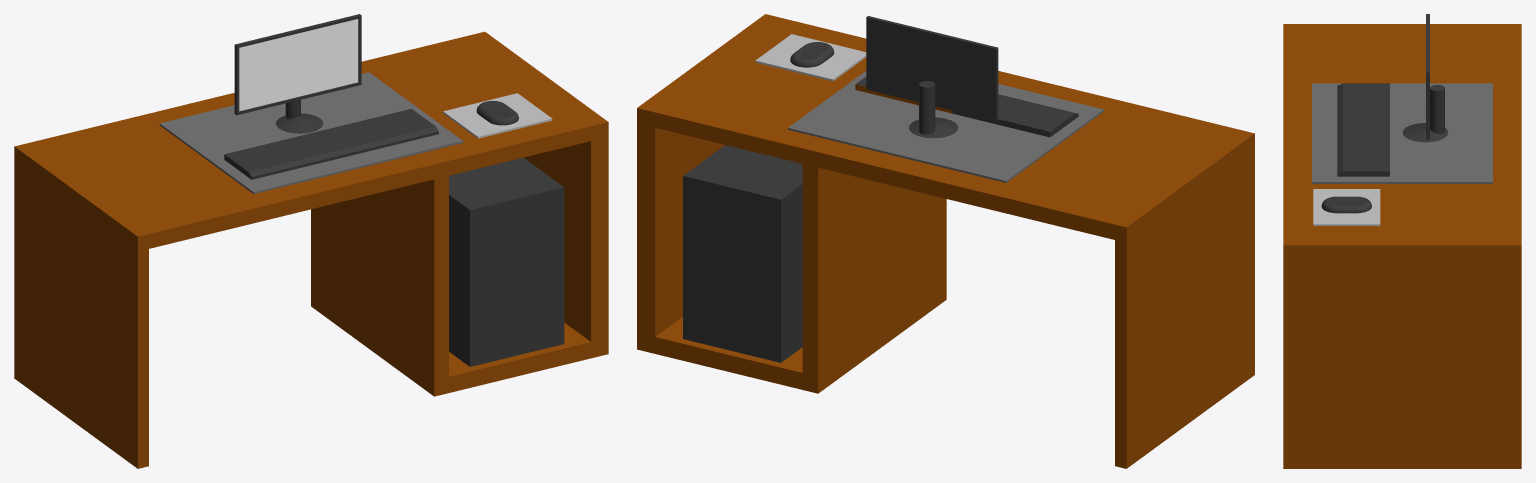
Rendered from Computer.fbx.
3 renders of one model, left to right at view 1: azimuth 30°, elevation 25°; view 2: azimuth 150°, elevation 25°; view 3: azimuth 270°, elevation 25°, orthographic. The views are drawn at different scales.
Parts seen in each view (by area): view 1: Group1; view 2: Group1; view 3: Group1.
Boxes of the visible parts, x1,y1,x2,y2 form: Group1: (14,14,608,468); Group1: (637,14,1254,468); Group1: (1283,14,1521,468).
Bounding box in the file's own units: 78.88 × 52.33 × 35.84.
